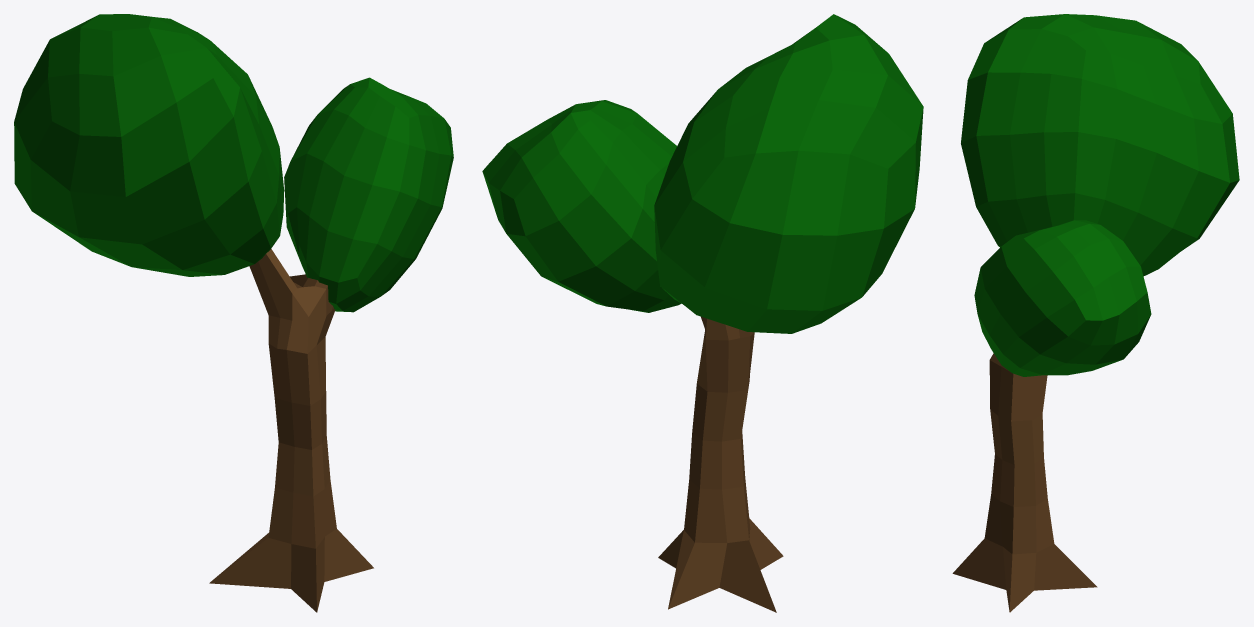
The model's file is Park2_T3.glb.
The picture shows the model from 3 angles, left to right: view 1: azimuth 30°, elevation 25°; view 2: azimuth 150°, elevation 25°; view 3: azimuth 270°, elevation 25°; orthographic projection. The views are drawn at different scales.
Parts seen in each view (by area): view 1: Park2-T3; view 2: Park2-T3; view 3: Park2-T3.
Boxes of the visible parts, <box> form: Park2-T3: <box>14,14,453,612</box>; Park2-T3: <box>482,14,923,612</box>; Park2-T3: <box>952,14,1239,612</box>.
Size of the model in its own units: 28.48 by 38.61 by 19.61.
